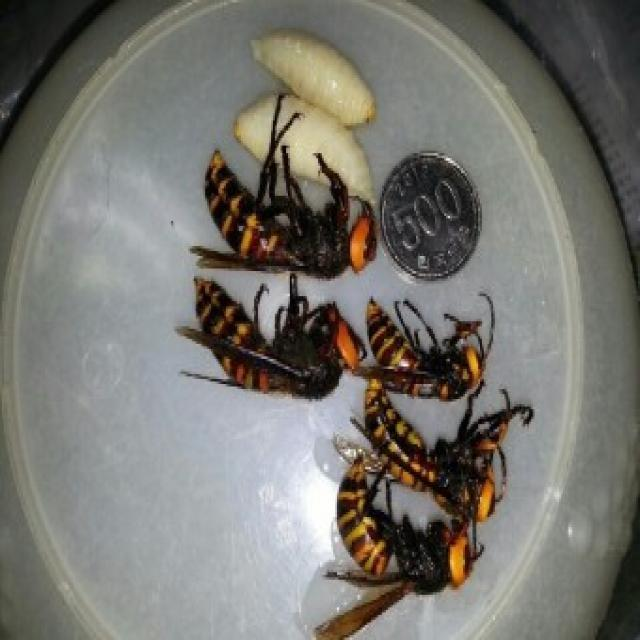Wasp: (198, 156, 382, 278), (186, 288, 363, 402), (332, 464, 477, 598), (375, 300, 491, 402)
